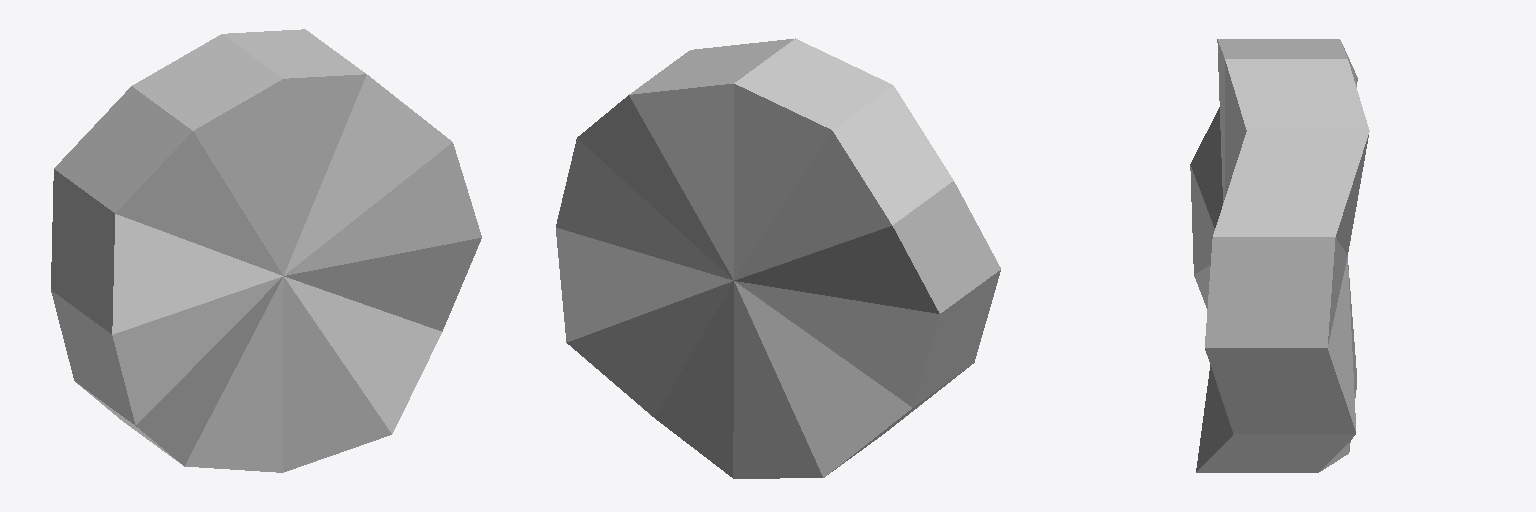
Rendered from iceman.obj.
The picture shows the model from 3 angles: view 1: azimuth 30°, elevation 25°; view 2: azimuth 150°, elevation 25°; view 3: azimuth 270°, elevation 25°; orthographic projection.
Parts seen in each view (by area): view 1: Cylinder; view 2: Cylinder; view 3: Cylinder.
Part boxes in pixels (x1,y1,x2,y2): Cylinder: (51,29,481,472); Cylinder: (556,38,1000,478); Cylinder: (1190,39,1369,472).
Size of the model in its own units: 2 by 2 by 0.8241.